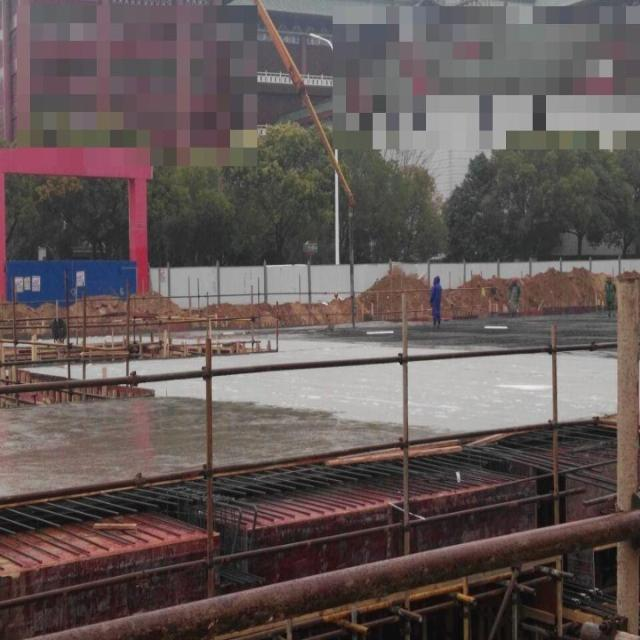truck: (254, 1, 363, 339)
